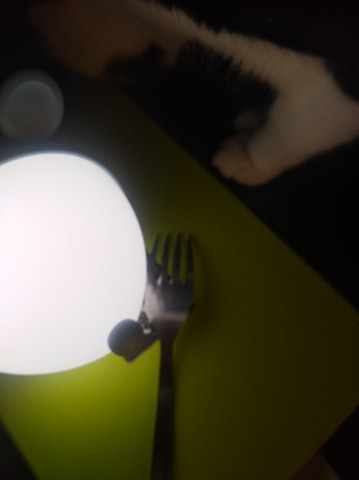Widelec: (147, 231, 200, 340)
